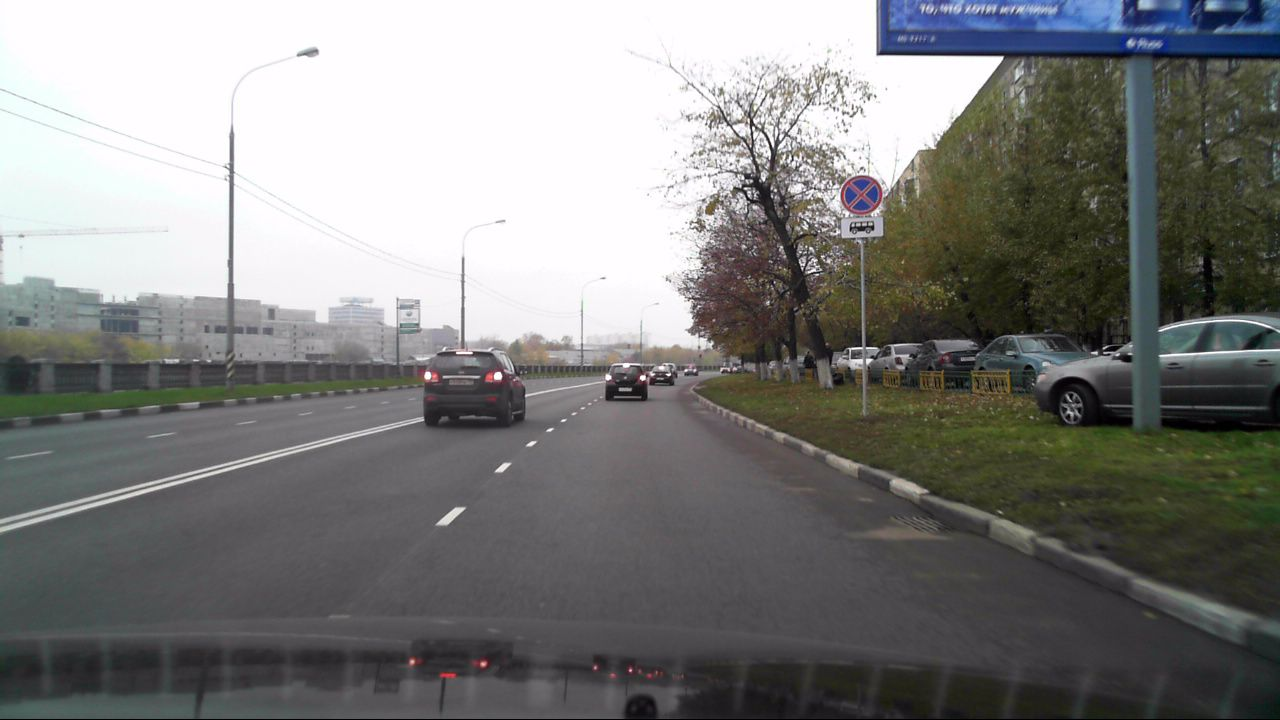No Parking: (841, 174, 882, 214)
